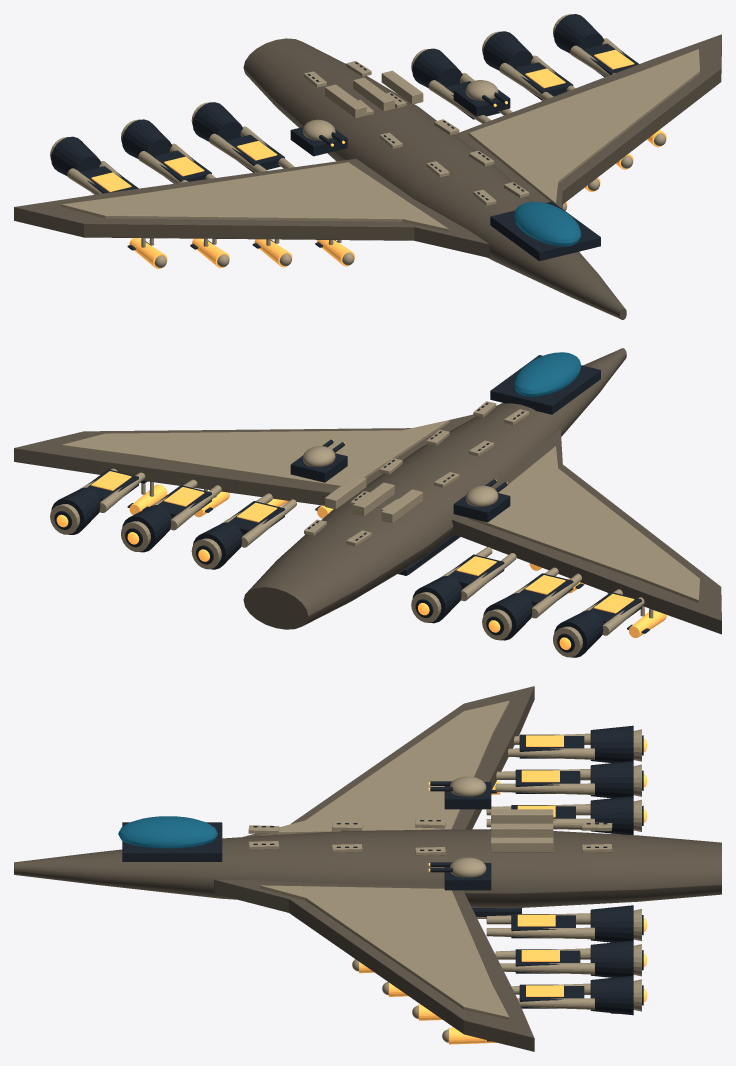
The model's file is bomber.glb.
3 renders of one model, top to bottom at view 1: azimuth 30°, elevation 25°; view 2: azimuth 150°, elevation 25°; view 3: azimuth 270°, elevation 25°, orthographic.
Visible parts, largest first — view 1: bomber; view 2: bomber; view 3: bomber.
Boxes of the visible parts, left/top/right/bottom form: bomber: left=14, top=14, right=721, bottom=319; bomber: left=14, top=348, right=721, bottom=657; bomber: left=14, top=686, right=721, bottom=1051.
Size of the model in its own units: 19.99 by 2.66 by 17.
Materials: 6 (3 with a texture image).
